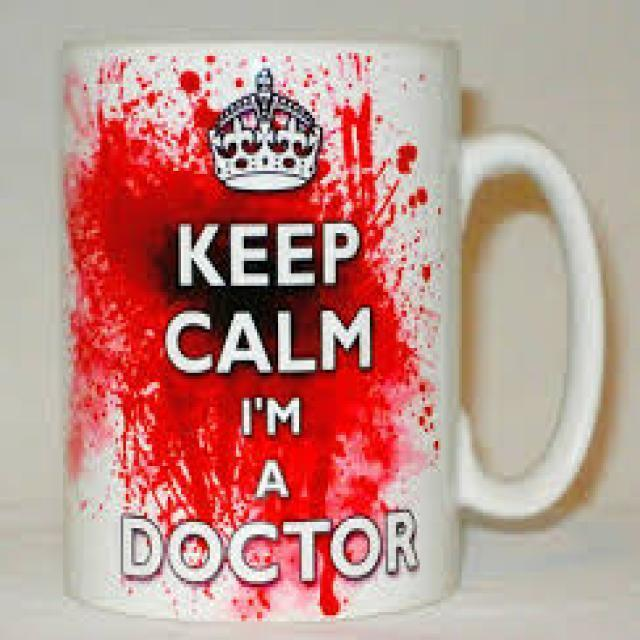taza: (26, 38, 624, 620)
